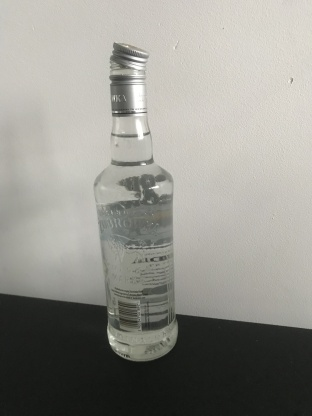nakretka: (107, 38, 150, 117)
